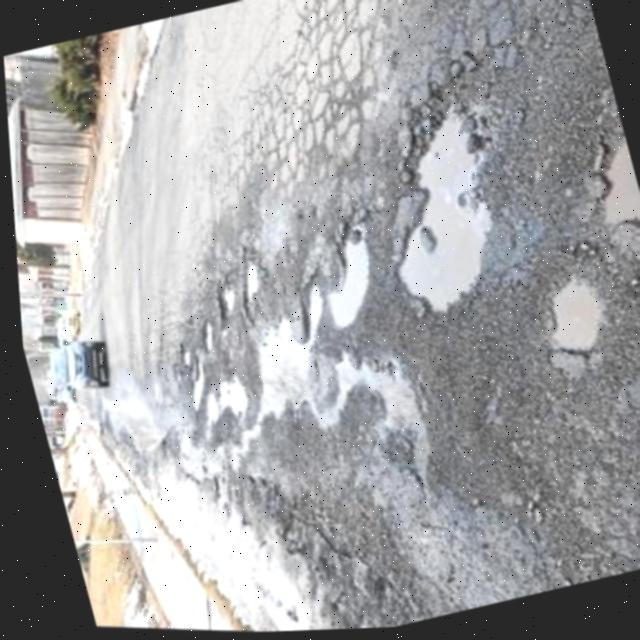Pothole: (323, 49, 567, 354), (199, 281, 466, 520), (497, 254, 630, 389), (286, 199, 403, 352), (545, 101, 640, 267), (181, 354, 268, 440), (275, 274, 339, 349), (217, 243, 272, 322), (195, 271, 248, 329), (170, 361, 216, 419), (185, 315, 224, 362), (162, 332, 197, 374)
